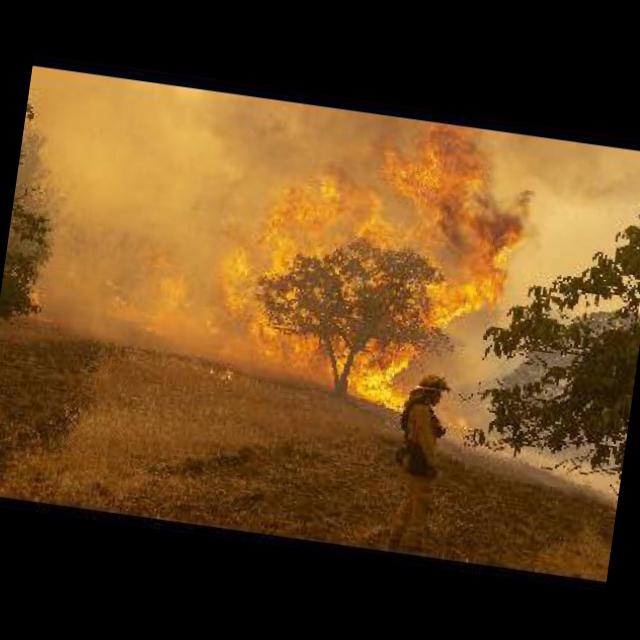fire: (21, 76, 546, 424)
